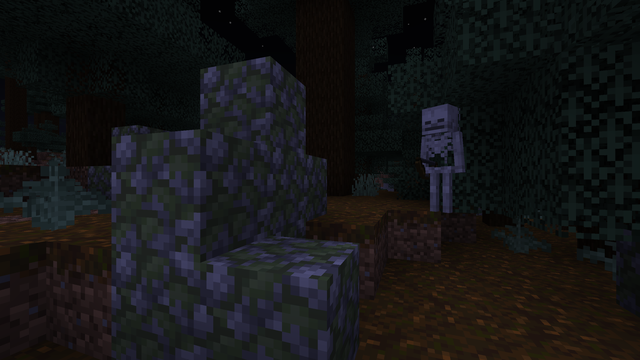squelettes: (423, 103, 460, 213)
